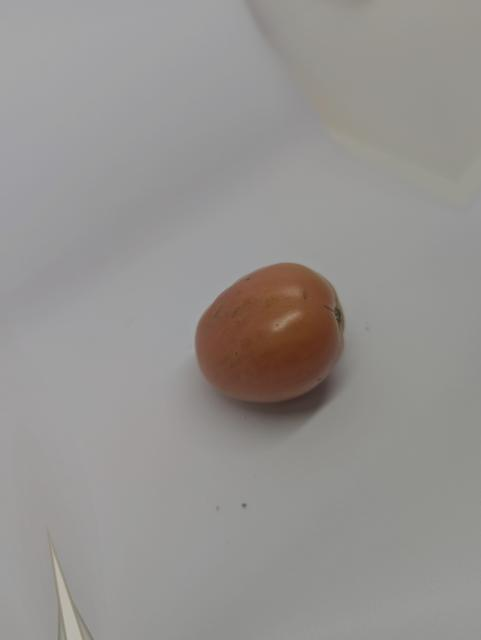turning: (188, 257, 353, 415)
